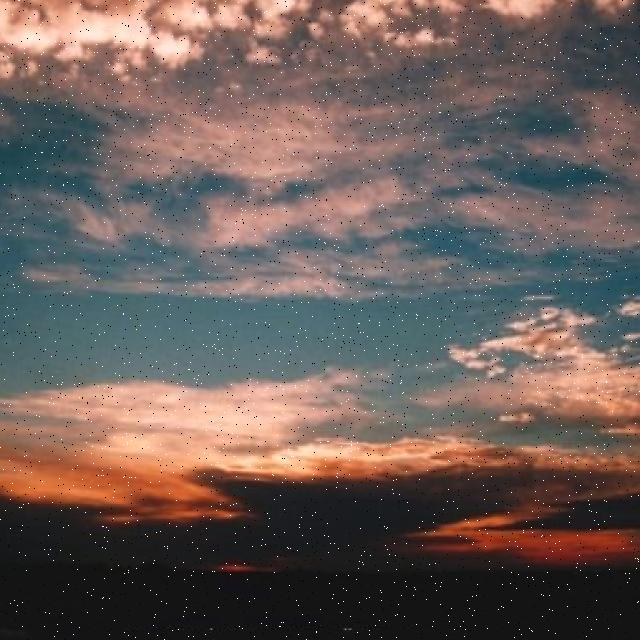As: (1, 8, 640, 460)
